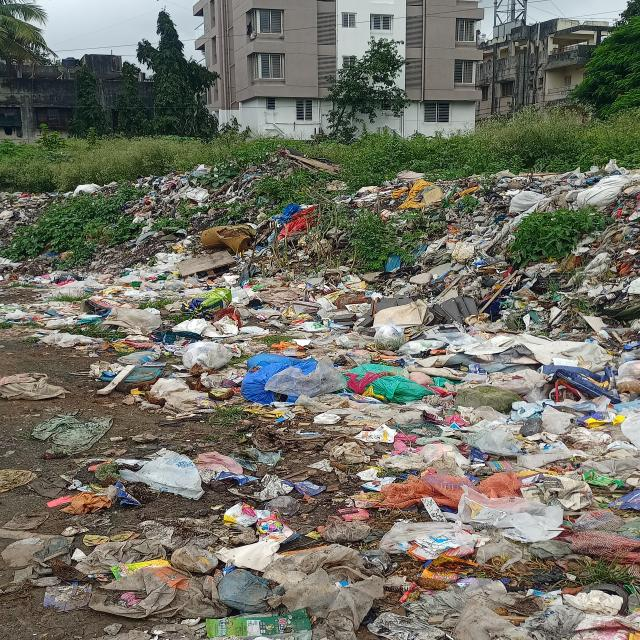garbage: (0, 165, 640, 640)
